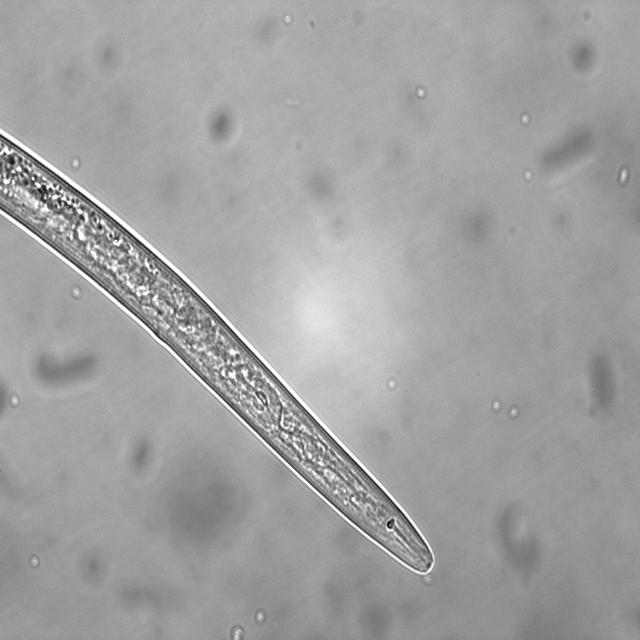Meloidogyne: (0, 115, 446, 579)
